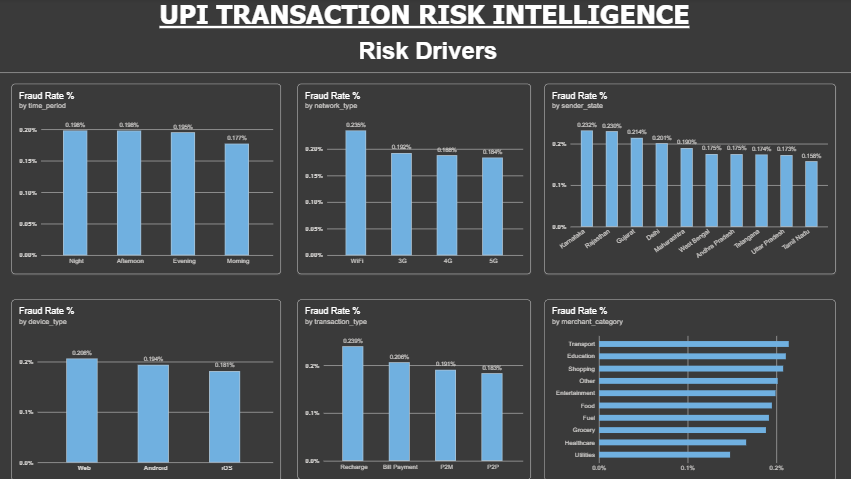

The dashboard page shown, as its layout file describes it:
{"tool":"powerbi","page":{"name":"Risk Drivers","canvas":[1920,1080],"ordinal":1},"visuals":[{"type":"columnChart","fields":{"Category":["upi_risk_intelligence upi_transactions.transaction_type"],"Y":["upi_risk_intelligence upi_transactions.Fraud Rate %"]},"box":[674.2,674.2,522.6,403.2],"z":0},{"type":"columnChart","fields":{"Category":["upi_risk_intelligence upi_transactions.network_type"],"Y":["upi_risk_intelligence upi_transactions.Fraud Rate %"]},"box":[674.2,193.5,522.6,425.8],"z":1000},{"type":"columnChart","fields":{"Category":["upi_risk_intelligence upi_transactions.device_type"],"Y":["upi_risk_intelligence upi_transactions.Fraud Rate %"]},"box":[35.5,674.2,603.2,406.5],"z":2000},{"type":"barChart","fields":{"Category":["upi_risk_intelligence upi_transactions.merchant_category"],"Y":["upi_risk_intelligence upi_transactions.Fraud Rate %"]},"box":[1229,674.2,651.6,406.5],"z":3000},{"type":"columnChart","fields":{"Category":["upi_risk_intelligence upi_transactions.sender_state"],"Y":["upi_risk_intelligence upi_transactions.Fraud Rate %"]},"box":[1229,193.5,651.6,425.8],"z":4000},{"type":"columnChart","fields":{"Category":["upi_risk_intelligence upi_transactions.time_period"],"Y":["upi_risk_intelligence upi_transactions.Fraud Rate %"]},"box":[35.5,193.5,603.2,425.8],"z":5000},{"type":"textbox","box":[0,0,1919.4,167.7],"z":6000}]}

Visuals, with their boxes in screenshot pixels (x1, y1, x2, y2), scaled from the page's 1920x1080 canvas onto the 851x479 screenshot:
columnChart - upi_risk_intelligence upi_transactions.transaction_type x upi_risk_intelligence upi_transactions.Fraud Rate %: left=299, top=299, right=530, bottom=478
columnChart - upi_risk_intelligence upi_transactions.network_type x upi_risk_intelligence upi_transactions.Fraud Rate %: left=299, top=86, right=530, bottom=275
columnChart - upi_risk_intelligence upi_transactions.device_type x upi_risk_intelligence upi_transactions.Fraud Rate %: left=16, top=299, right=283, bottom=478
barChart - upi_risk_intelligence upi_transactions.merchant_category x upi_risk_intelligence upi_transactions.Fraud Rate %: left=545, top=299, right=834, bottom=478
columnChart - upi_risk_intelligence upi_transactions.sender_state x upi_risk_intelligence upi_transactions.Fraud Rate %: left=545, top=86, right=834, bottom=275
columnChart - upi_risk_intelligence upi_transactions.time_period x upi_risk_intelligence upi_transactions.Fraud Rate %: left=16, top=86, right=283, bottom=275
textbox: left=0, top=0, right=850, bottom=74
